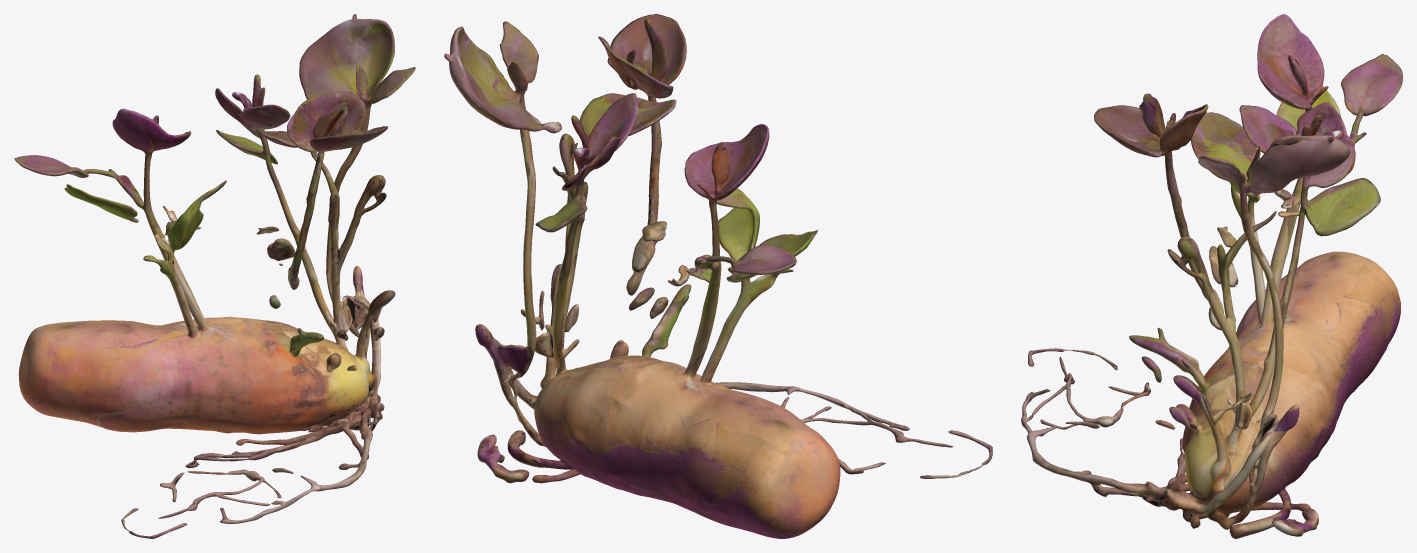
Rendered from creeper0067_dup.gltf.
3 renders of one model, left to right at view 1: azimuth 30°, elevation 25°; view 2: azimuth 150°, elevation 25°; view 3: azimuth 270°, elevation 25°, orthographic. The views are drawn at different scales.
Visible parts, largest first — view 1: Mesh_0; view 2: Mesh_0; view 3: Mesh_0.
Boxes of the visible parts, <box> form: Mesh_0: <box>14,14,415,538</box>; Mesh_0: <box>444,14,992,538</box>; Mesh_0: <box>1021,14,1402,538</box>.
Bounding box in the file's own units: 2 × 1.98 × 1.6.
Materials: 1 (1 with a texture image).
